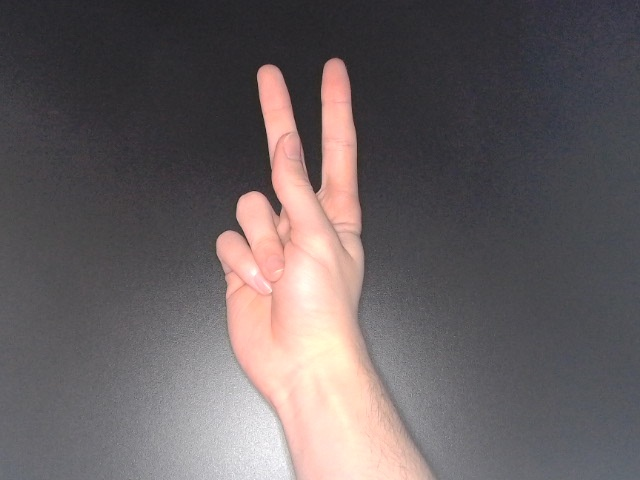k: (209, 54, 371, 419)
